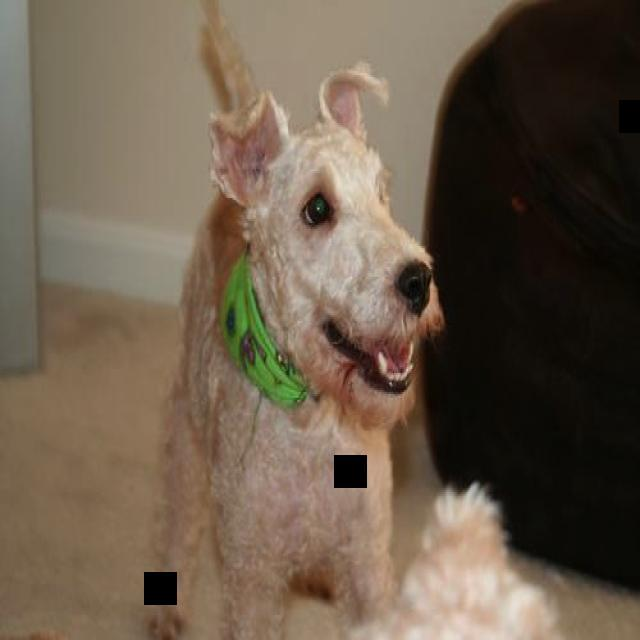adult_dog: (139, 0, 445, 640), (364, 479, 560, 640)
